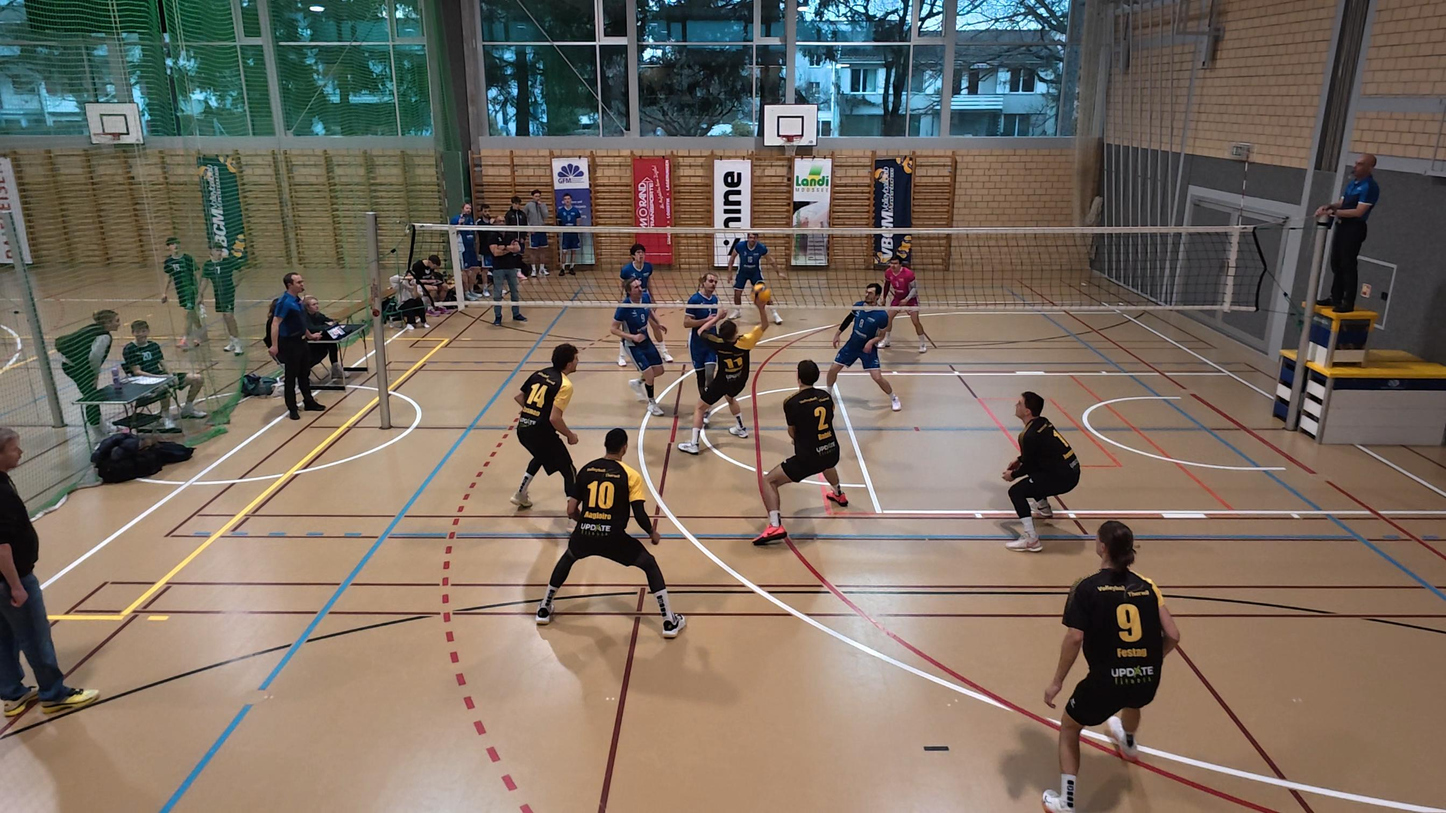difesa: (676, 294, 773, 450)
